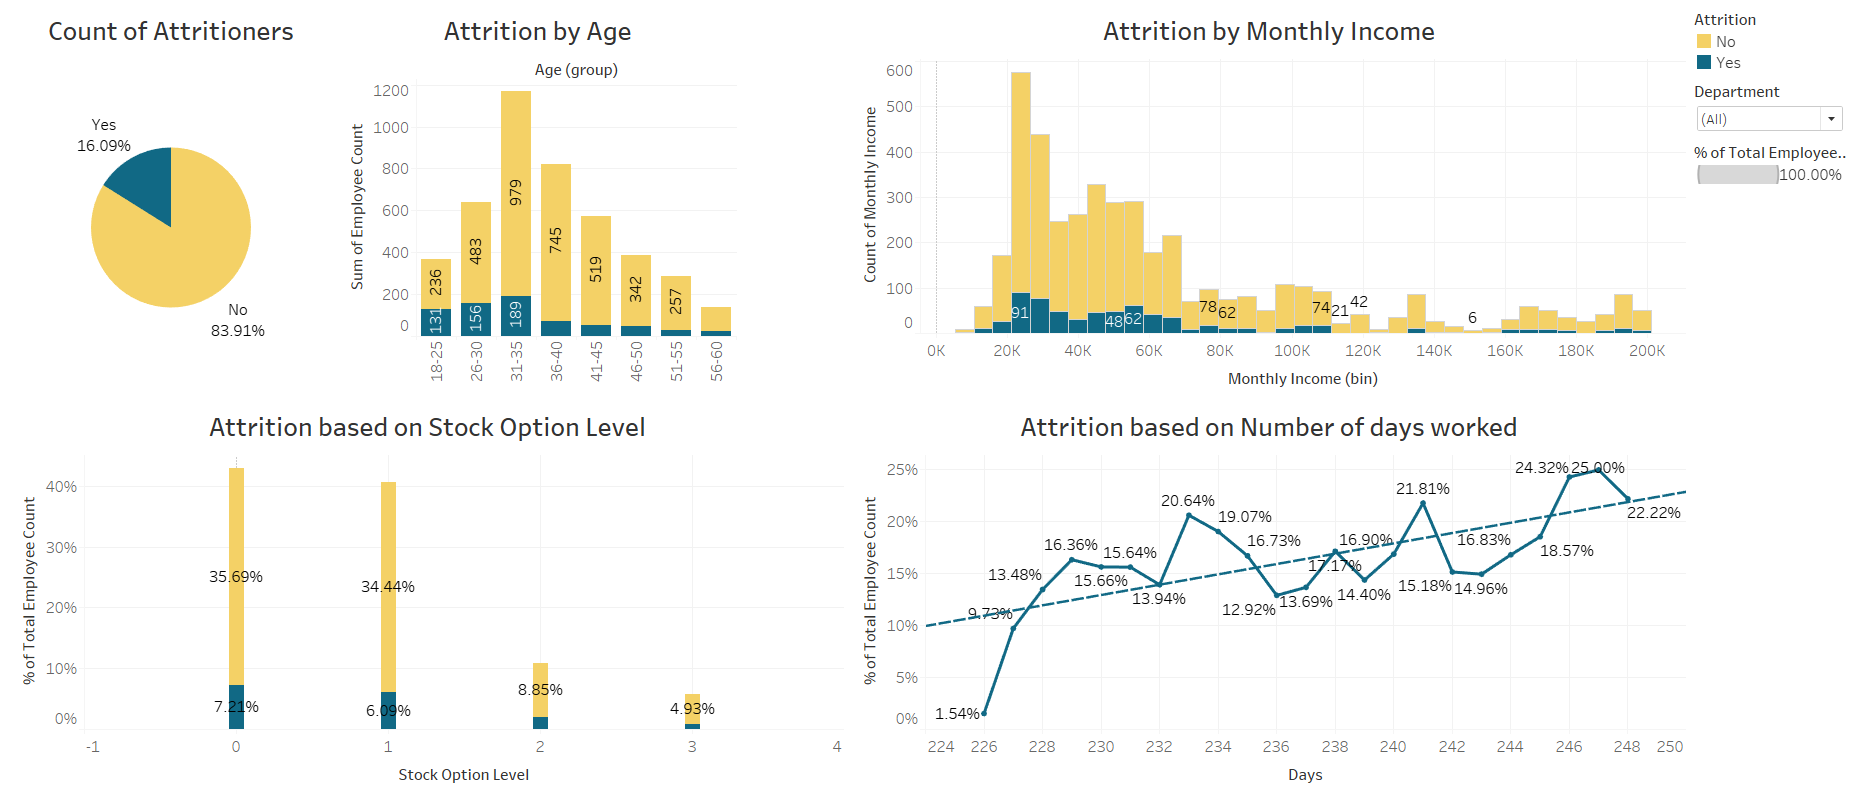

Layout of this report page (visuals, bound fields, positions):
{"tool":"tableau","page":{"name":"Dashboard 2","canvas":[1000,1000],"units":"permille","ordinal":1},"visuals":[{"type":"worksheet","title":"Sheet 7","mark":"Pie","box":[4.9,9.9,173.8,490.1]},{"type":"worksheet","title":"Sheet 1","mark":"Automatic","rows":["EmployeeCount"],"box":[178.7,9.9,272.1,490.1]},{"type":"worksheet","title":"Sheet 2","mark":"Bar","rows":["MonthlyIncome"],"cols":["Monthly Income (bin)"],"box":[450.8,9.9,446,490.1]},{"type":"legend","title":"Sheet 1","param":"[federated.0j0eqzi1m7ro331365rb91to361o].[none:Attrition:nk]","box":[896.8,9.9,98.3,89.2]},{"type":"filter","title":"Sheet 2","param":"[federated.0j0eqzi1m7ro331365rb91to361o].[none:Department:nk]","box":[896.8,99.1,98.3,75.6]},{"type":"legend","title":"Sheet 7","param":"[federated.0j0eqzi1m7ro331365rb91to361o].[pcto:cnt:EmployeeCount:qk]","box":[896.8,174.7,98.3,63.2]},{"type":"worksheet","title":"Sheet 18","mark":"Bar","rows":["EmployeeCount"],"cols":["StockOptionLevel"],"box":[4.9,500,445.9,490.1]},{"type":"worksheet","title":"Sheet 15 (2)","mark":"Line","cols":["Days"],"box":[450.9,500,446,490.1]}]}

Visuals, with their boxes on the dashboard's canvas, which has no fixed pixel size, in thousandths of its width and height (x1, y1, x2, y2). These are canvas units, not pixel positions in the 1856x799 screenshot, which may show the page scaled, cropped or inside an application window:
"Sheet 7" worksheet (Pie marks): <region>5, 10, 179, 500</region>
"Sheet 1" worksheet: <region>179, 10, 451, 500</region>
"Sheet 2" worksheet (Bar marks): <region>451, 10, 897, 500</region>
"Sheet 1" legend: <region>897, 10, 995, 99</region>
"Sheet 2" filter: <region>897, 99, 995, 175</region>
"Sheet 7" legend: <region>897, 175, 995, 238</region>
"Sheet 18" worksheet (Bar marks): <region>5, 500, 451, 990</region>
"Sheet 15 (2)" worksheet (Line marks): <region>451, 500, 897, 990</region>
